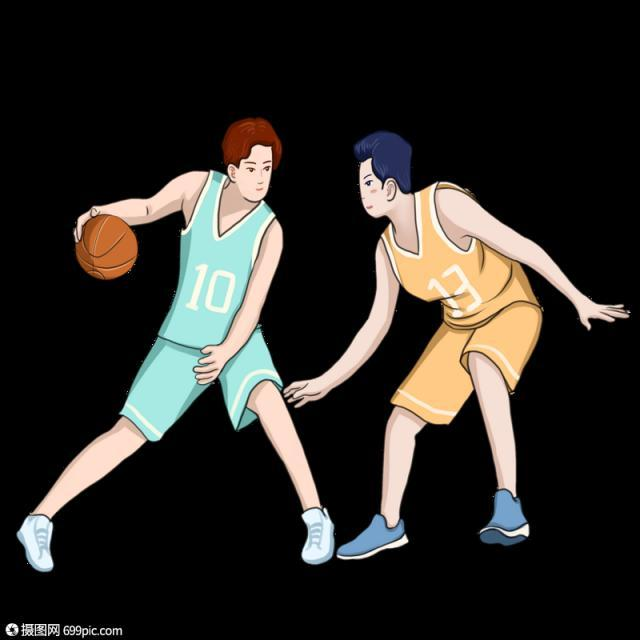rim: (74, 212, 138, 280)
